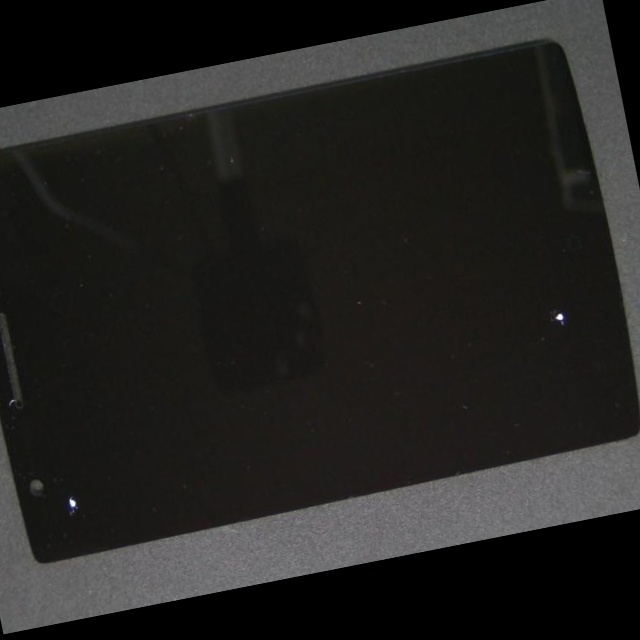stain: (253, 161, 640, 517), (0, 275, 129, 624)
